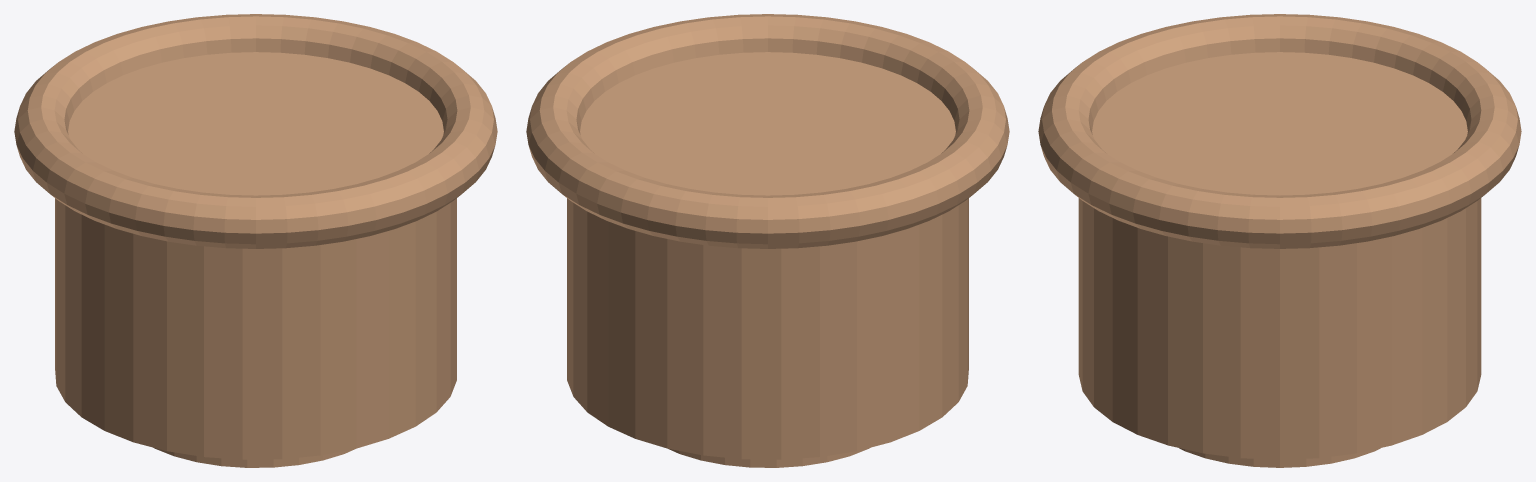
Rendered from pot_basic.glb.
3 views of the same model, side by side, from view 1: azimuth 30°, elevation 25°; view 2: azimuth 150°, elevation 25°; view 3: azimuth 270°, elevation 25° (orthographic).
Parts seen in each view (by area): view 1: Cylinder, Torus.002, Cylinder.001; view 2: Cylinder, Torus.002, Cylinder.001; view 3: Cylinder, Torus.002, Cylinder.001.
Part boxes in pixels (x1,y1,x2,y2): Cylinder: (55, 52, 456, 459); Torus.002: (14, 14, 497, 248); Cylinder.001: (153, 447, 355, 467); Cylinder: (567, 52, 968, 459); Torus.002: (526, 14, 1009, 248); Cylinder.001: (668, 447, 870, 467); Cylinder: (1078, 52, 1481, 459); Torus.002: (1038, 14, 1521, 248); Cylinder.001: (1179, 448, 1380, 467).
Size of the model in its own units: 0.36 by 0.25 by 0.36.
